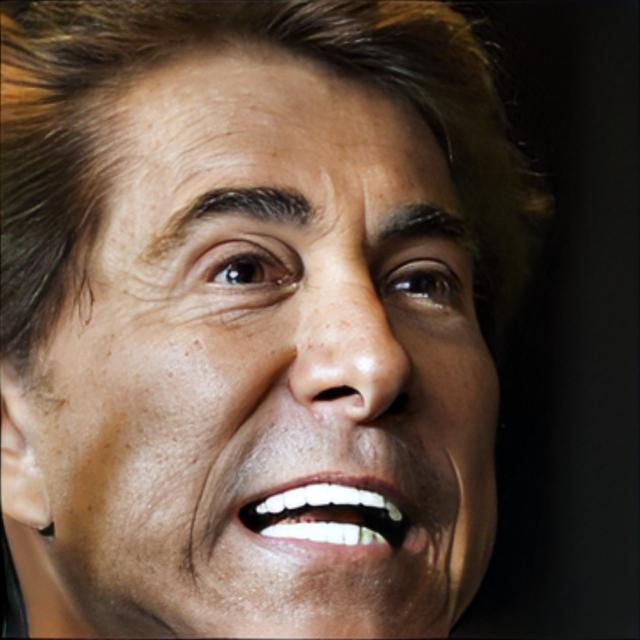surprise: (54, 41, 500, 640)
